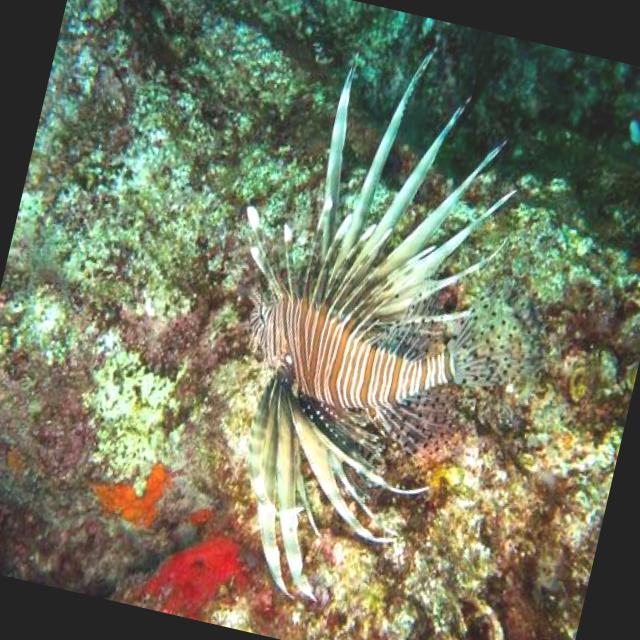Aslan Baligi: (157, 10, 552, 632)
